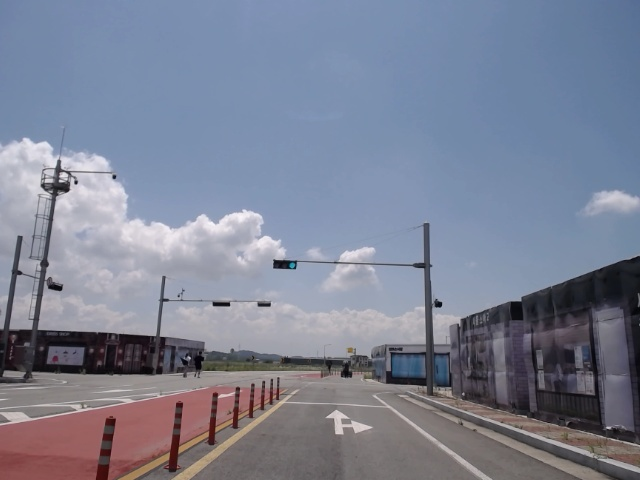green_3: (273, 260, 296, 269)
